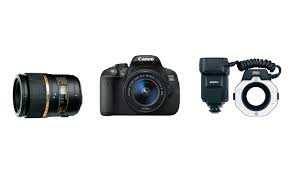camera: (100, 57, 180, 115)
